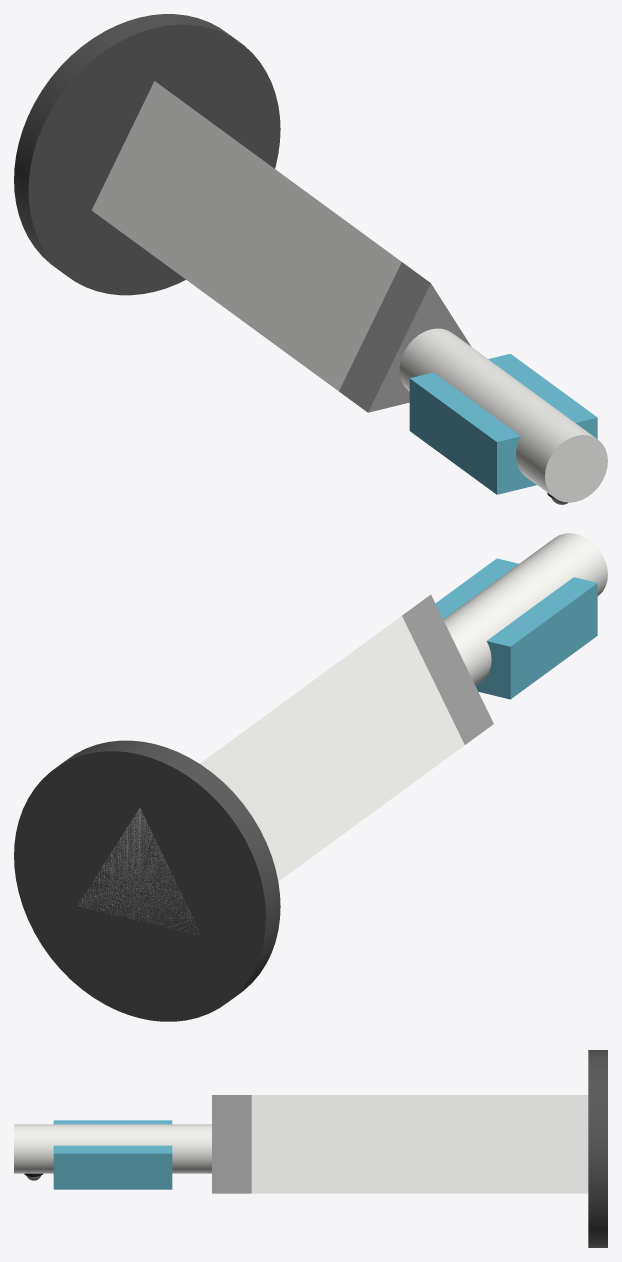
File: Fever meter.fbx
3 views of the same model, one above another, from view 1: azimuth 30°, elevation 25°; view 2: azimuth 150°, elevation 25°; view 3: azimuth 270°, elevation 25° (orthographic). The views are drawn at different scales.
Parts seen in each view (by area): view 1: Body2, Body1, Body3, Body4, Body7; view 2: Body1, Body2, Body4, Body3, Body7; view 3: Body2, Body3, Body4, Body1, Body7.
Boxes of the visible parts, left/top/right/bottom form: Body2: left=91, top=81, right=401, bottom=391; Body1: left=14, top=14, right=280, bottom=295; Body3: left=399, top=328, right=607, bottom=502; Body4: left=409, top=353, right=597, bottom=494; Body7: left=339, top=262, right=471, bottom=412; Body1: left=14, top=740, right=280, bottom=1021; Body2: left=78, top=616, right=464, bottom=933; Body4: left=435, top=558, right=597, bottom=699; Body3: left=443, top=533, right=607, bottom=685; Body7: left=402, top=594, right=493, bottom=744; Body2: left=251, top=1095, right=588, bottom=1193; Body3: left=14, top=1124, right=211, bottom=1173; Body4: left=53, top=1120, right=172, bottom=1189; Body1: left=588, top=1050, right=607, bottom=1247; Body7: left=212, top=1095, right=251, bottom=1193.
Bounding box in the file's own units: 50 × 50 × 150.
